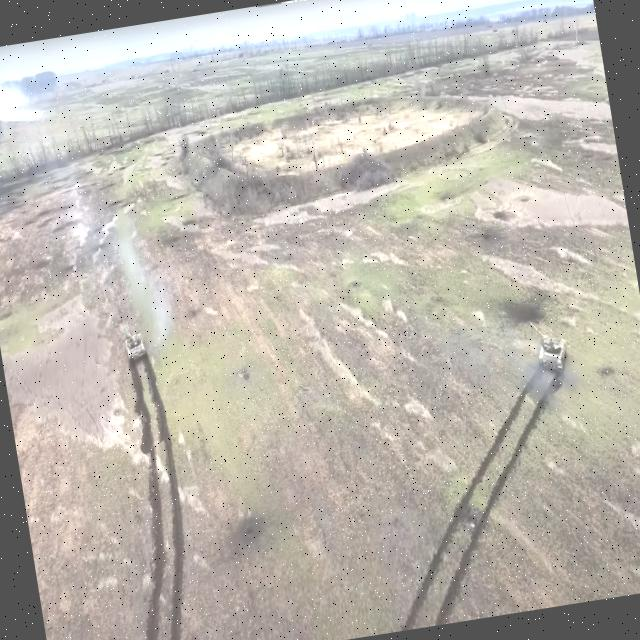MBT: (529, 313, 574, 382), (121, 326, 151, 370)
